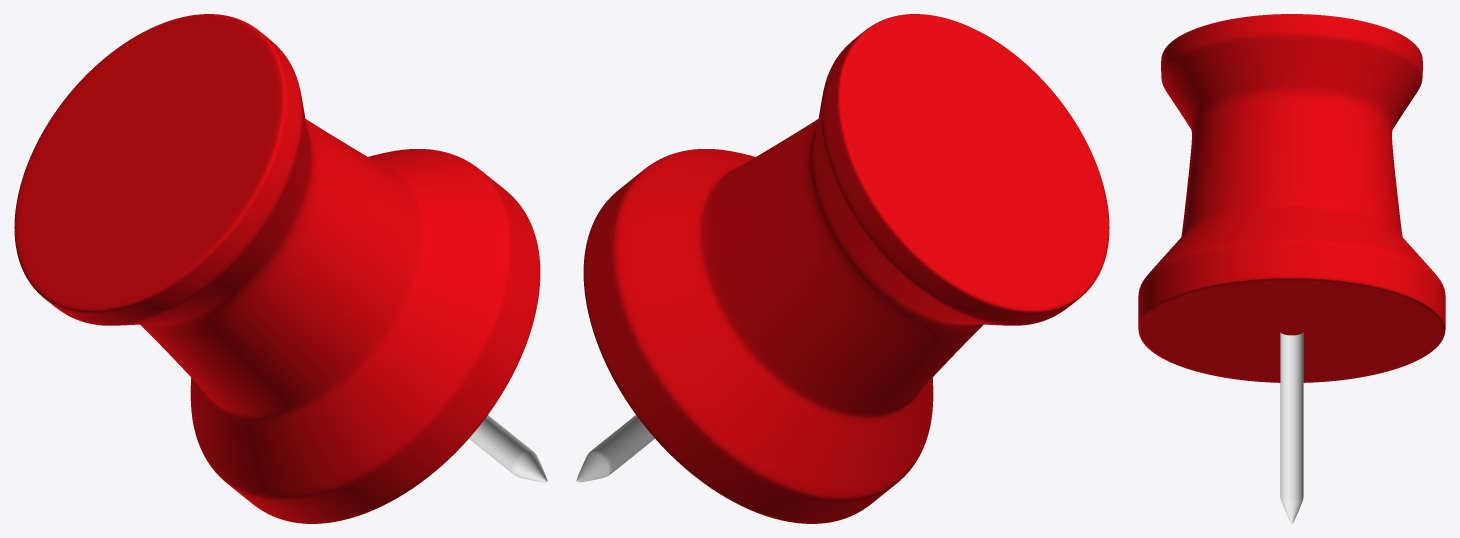
Rendered from pin.glb.
3 renders of one model, left to right at view 1: azimuth 30°, elevation 25°; view 2: azimuth 150°, elevation 25°; view 3: azimuth 270°, elevation 25°, orthographic. The views are drawn at different scales.
Visible parts, largest first — view 1: Circle.013; view 2: Circle.013; view 3: Circle.013.
Boxes of the visible parts, x1=… form: Circle.013: x1=14, y1=14, x2=547, y2=523; Circle.013: x1=576, y1=14, x2=1109, y2=523; Circle.013: x1=1138, y1=14, x2=1445, y2=523.
Size of the model in its own units: 1.74 by 1.74 by 1.21.
